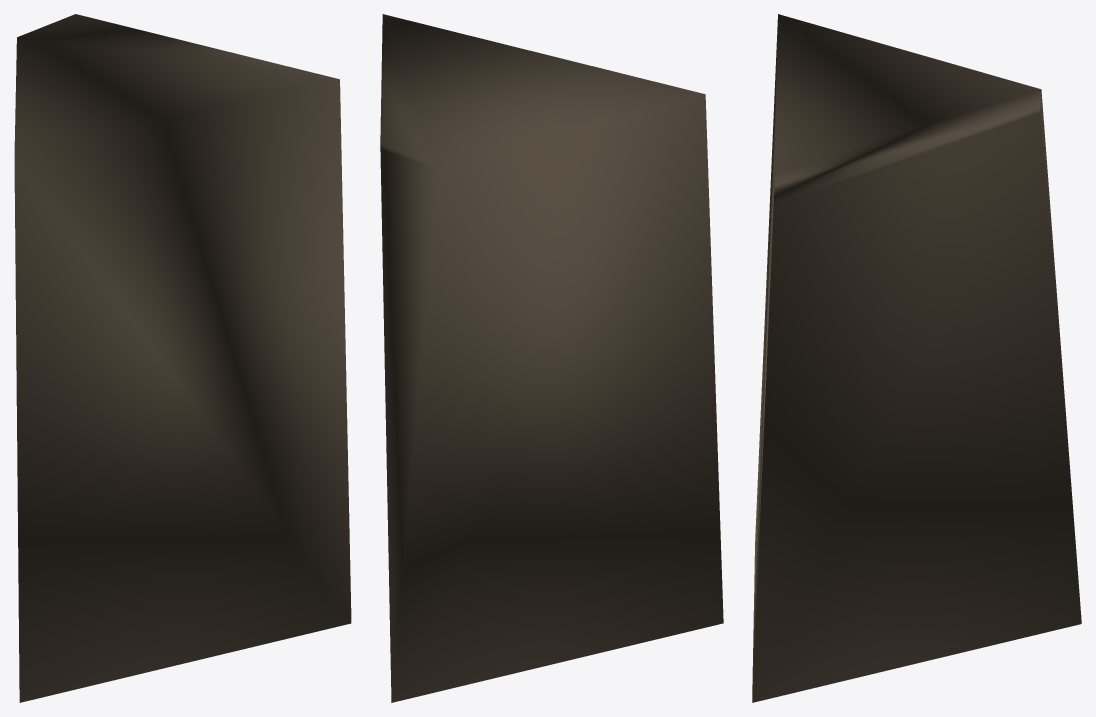
Rendered from CONIFEROUSPinokCF1-1-GO.fbx.
3 renders of one model, left to right at view 1: azimuth 30°, elevation 25°; view 2: azimuth 150°, elevation 25°; view 3: azimuth 270°, elevation 25°, orthographic.
Visible parts, largest first — view 1: Cylinder.006; view 2: Cylinder.006; view 3: Cylinder.006.
Part boxes in pixels (box(x1,y1,x2,y2)): Cylinder.006: box(14, 14, 351, 702); Cylinder.006: box(380, 14, 723, 702); Cylinder.006: box(752, 14, 1081, 702).
Bounding box in the file's own units: 38.63 × 59.82 × 33.59.
